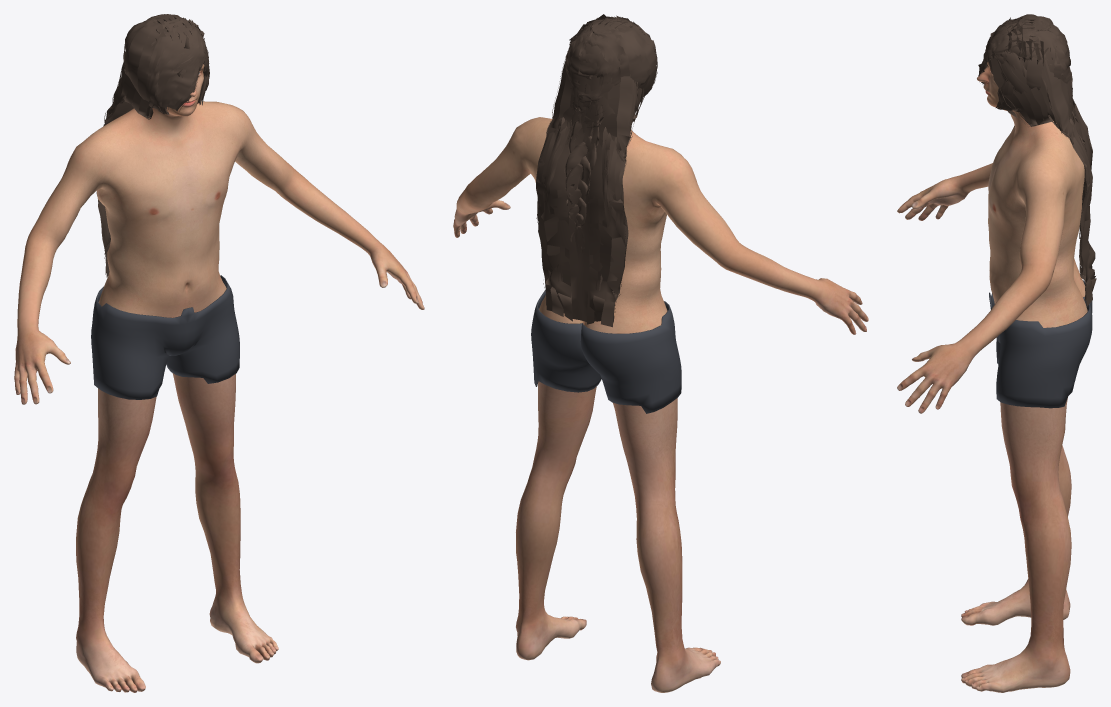
File: distorted-char.glb
3 views of the same model, side by side, from view 1: azimuth 30°, elevation 25°; view 2: azimuth 150°, elevation 25°; view 3: azimuth 270°, elevation 25° (orthographic).
Visible parts, largest first — view 1: Body, Briefs, Hair_bob01, Hair_long01, Hair_afro01; view 2: Body, Hair_long01, Briefs, Hair_bob01, Hair_braid01; view 3: Body, Briefs, Hair_long01, Hair_bob01, Hair_braid01, Hair_afro01, Hair_bob02.
Part boxes in pixels (x1,y1,x2,y2): Body: [14, 64, 424, 692]; Briefs: [91, 275, 239, 399]; Hair_bob01: [123, 14, 206, 111]; Hair_long01: [96, 15, 209, 277]; Hair_afro01: [147, 17, 204, 46]; Body: [453, 117, 868, 692]; Hair_long01: [536, 18, 644, 327]; Briefs: [531, 290, 681, 413]; Hair_bob01: [565, 18, 657, 103]; Hair_braid01: [564, 20, 631, 261]; Body: [897, 62, 1087, 692]; Briefs: [989, 281, 1092, 408]; Hair_long01: [986, 19, 1096, 306]; Hair_bob01: [978, 14, 1072, 90]; Hair_braid01: [985, 20, 1086, 193]; Hair_afro01: [996, 17, 1056, 65]; Hair_bob02: [984, 30, 1022, 111].
Bounding box in the file's own units: 1.23 × 1.87 × 0.5356.
13 materials, 1 textured.
